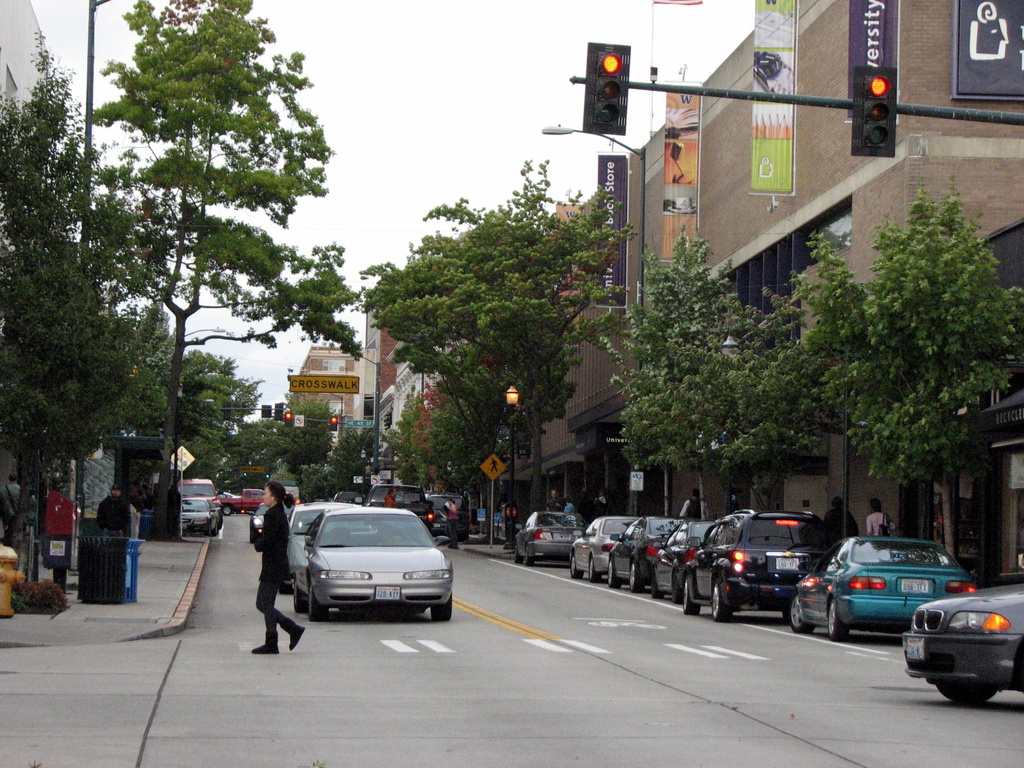red_light: (590, 47, 625, 129), (861, 71, 893, 153)
